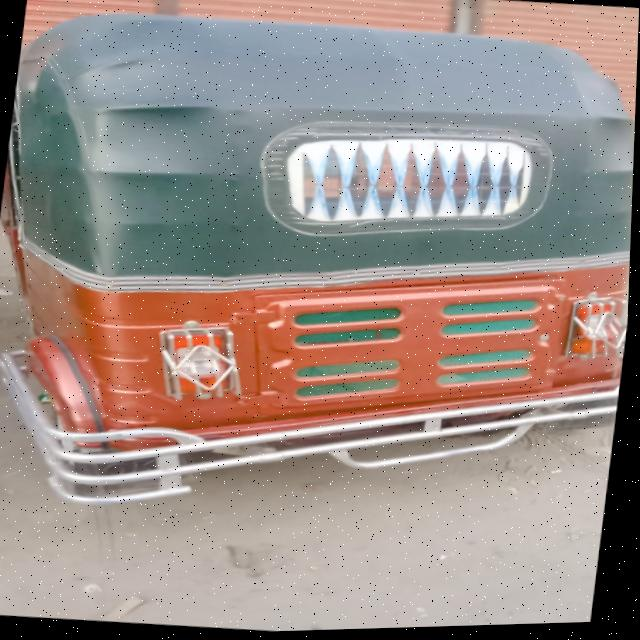cng: (0, 0, 640, 478)
